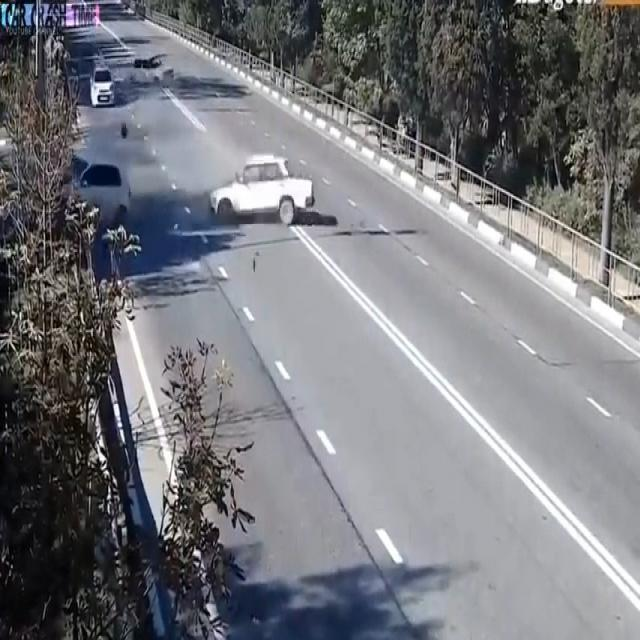Accident: (198, 134, 308, 234), (66, 146, 127, 222)
